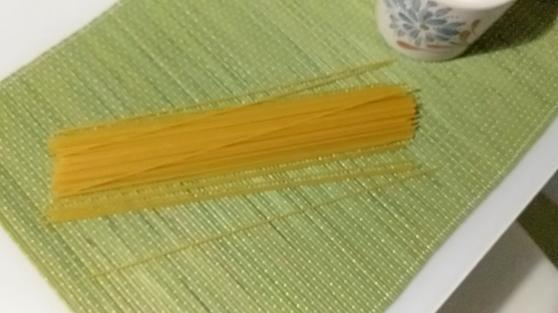spaghetti: (32, 62, 432, 231)
